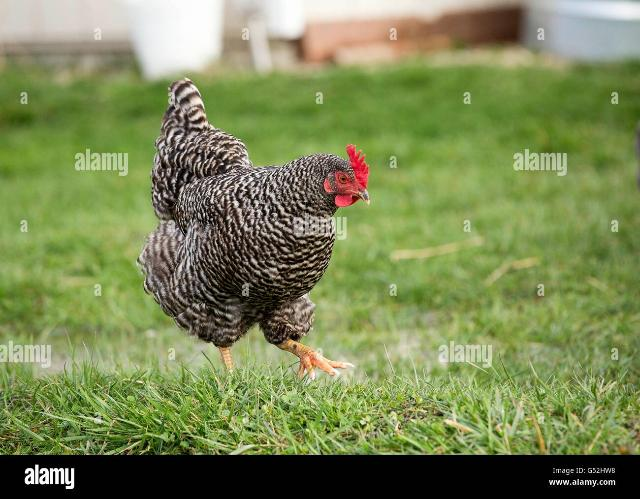Chicken: (138, 78, 370, 384)
